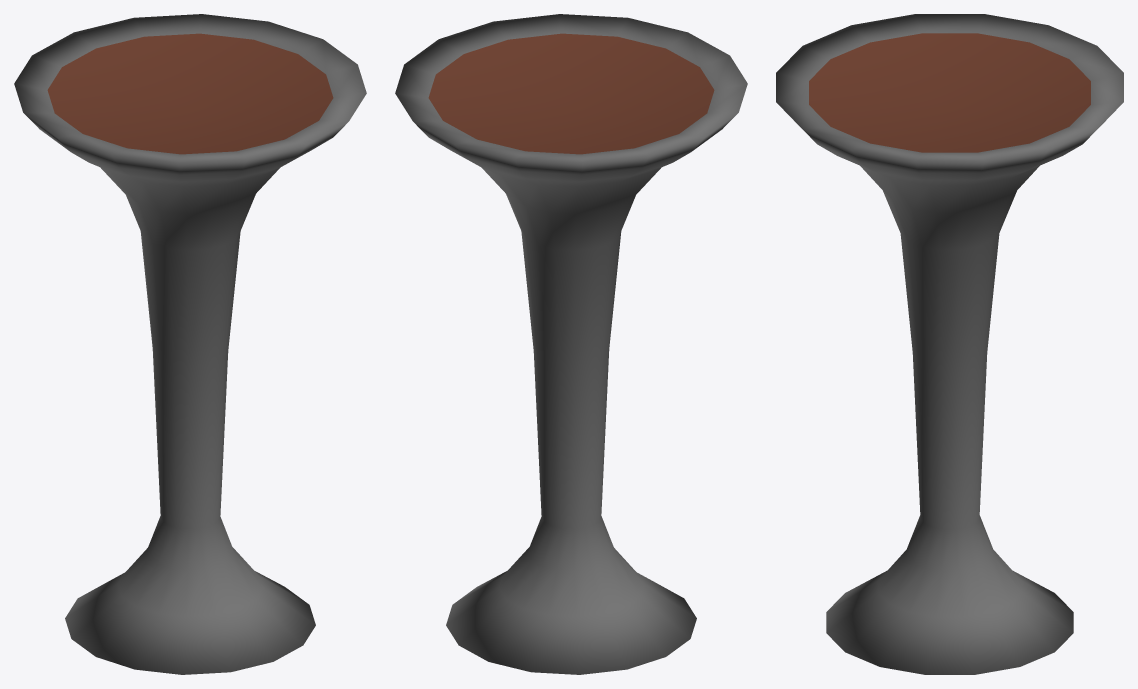
Rendered from torche.fbx.
The picture shows the model from 3 angles, left to right: view 1: azimuth 30°, elevation 25°; view 2: azimuth 150°, elevation 25°; view 3: azimuth 270°, elevation 25°; orthographic projection.
Parts seen in each view (by area): view 1: Torche; view 2: Torche; view 3: Torche.
Part boxes in pixels (left/top/right/bottom): Torche: left=14, top=14, right=366, bottom=674; Torche: left=395, top=14, right=747, bottom=674; Torche: left=776, top=14, right=1123, bottom=674.
Bounding box in the file's own units: 3.91 × 6.82 × 3.91.
